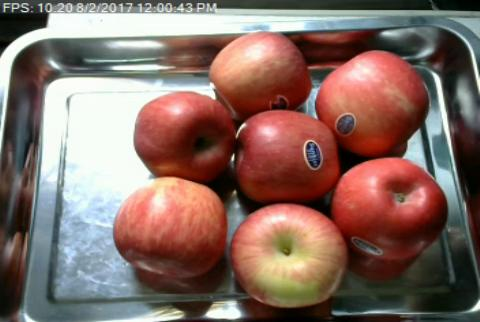apple: (229, 204, 348, 307), (334, 155, 448, 259), (316, 50, 432, 152), (113, 177, 227, 278), (233, 112, 342, 203), (133, 90, 235, 178), (210, 32, 312, 112)
